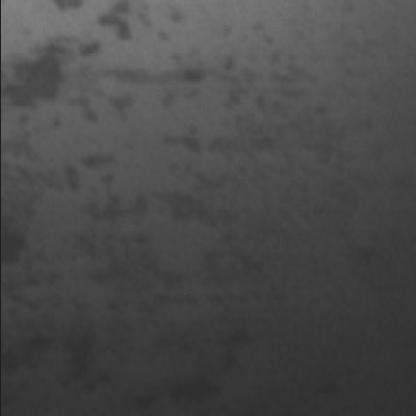pitted_surface: (14, 15, 378, 192), (60, 281, 410, 414), (34, 154, 320, 285)
